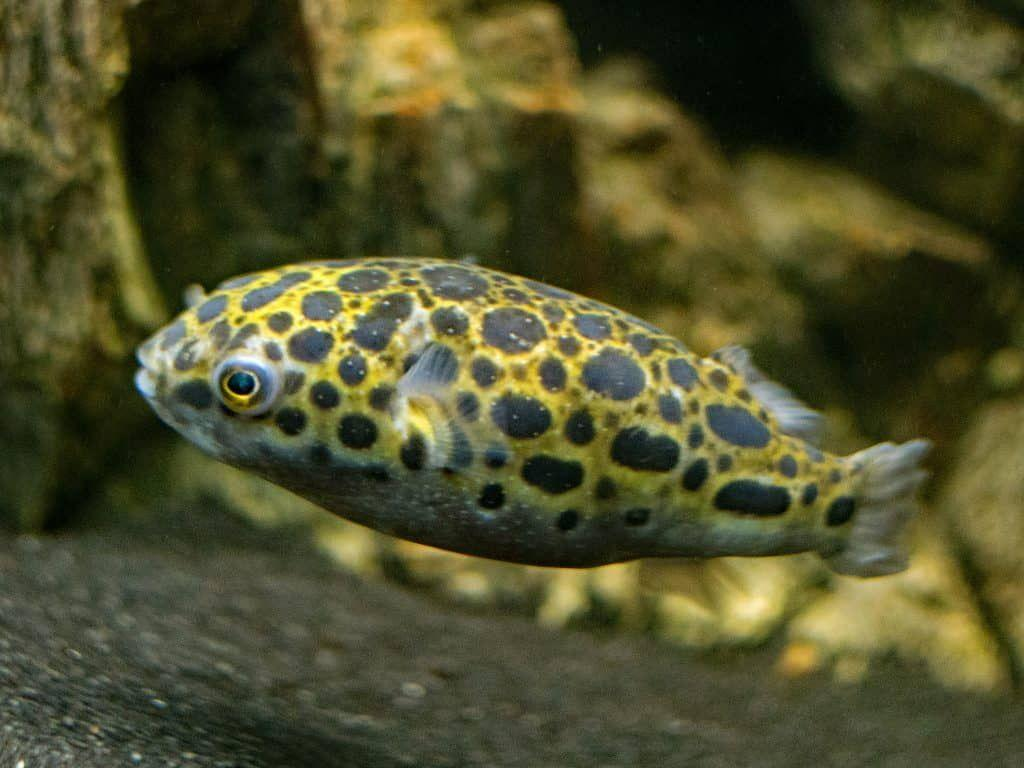Green Spotted Puffer: (135, 246, 930, 582)
